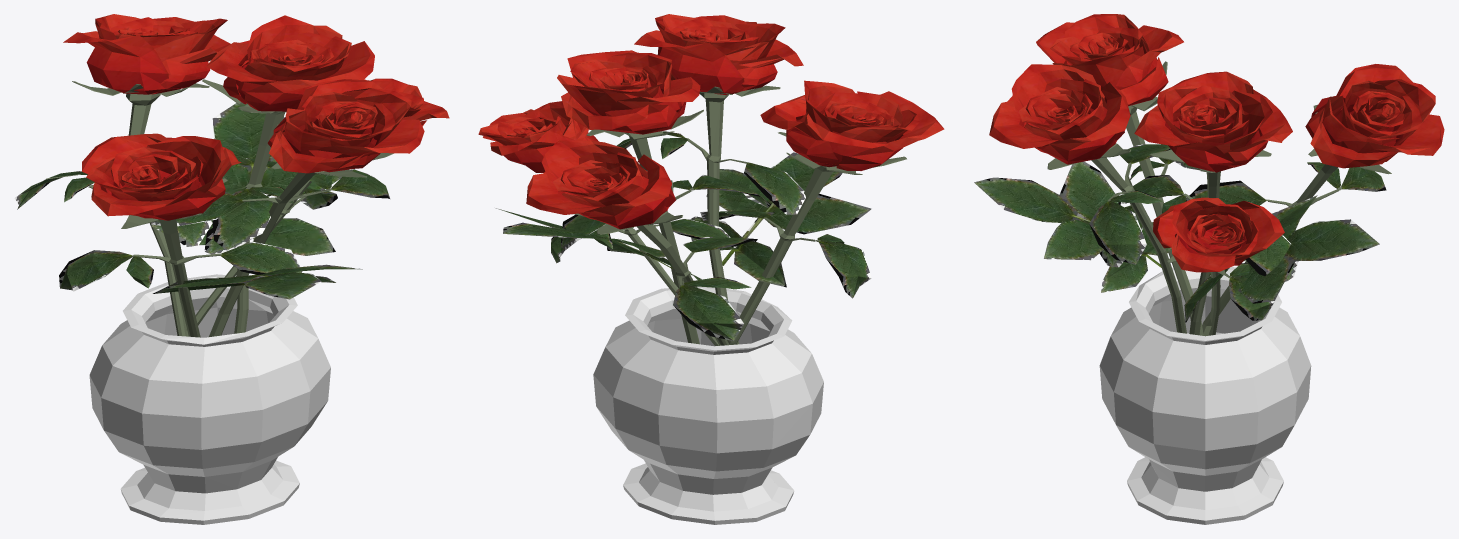
The model's file is sh-scopia-roses.glb.
The picture shows the model from 3 angles, left to right: view 1: azimuth 30°, elevation 25°; view 2: azimuth 150°, elevation 25°; view 3: azimuth 270°, elevation 25°; orthographic projection. The views are drawn at different scales.
Parts seen in each view (by area): view 1: Jar, rose, leaves.003, stem, stem.003; view 2: rose, Jar, leaves.003, stem, stem.003; view 3: rose, Jar, leaves.003, stem, stem.003.
Part boxes in pixels (x1,y1,x2,y2): Jar: (89,274,330,524); rose: (63,14,449,220); leaves.003: (14,103,389,299); stem: (46,79,393,337); stem.003: (186,180,311,336); rose: (478,14,944,229); Jar: (593,286,823,524); leaves.003: (495,131,871,340); stem: (573,85,906,345); stem.003: (510,160,719,345); rose: (989,14,1444,272); Jar: (1099,267,1311,524); leaves.003: (974,144,1386,322); stem: (1047,61,1391,336); stem.003: (1167,255,1230,335).
Size of the model in its own units: 1 by 1 by 1.
4 materials, 2 textured.
